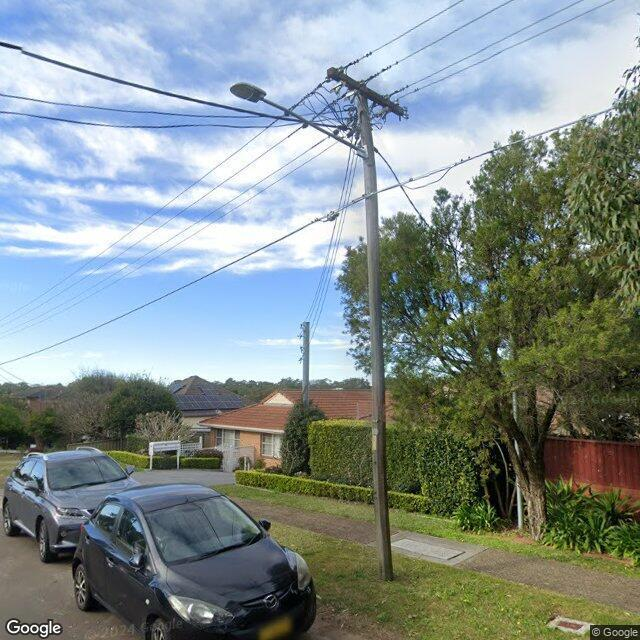crossarm: (326, 67, 405, 117)
steel-pole: (302, 322, 309, 423)
streetlight: (229, 81, 367, 158)
timber-pole: (357, 85, 394, 582)
